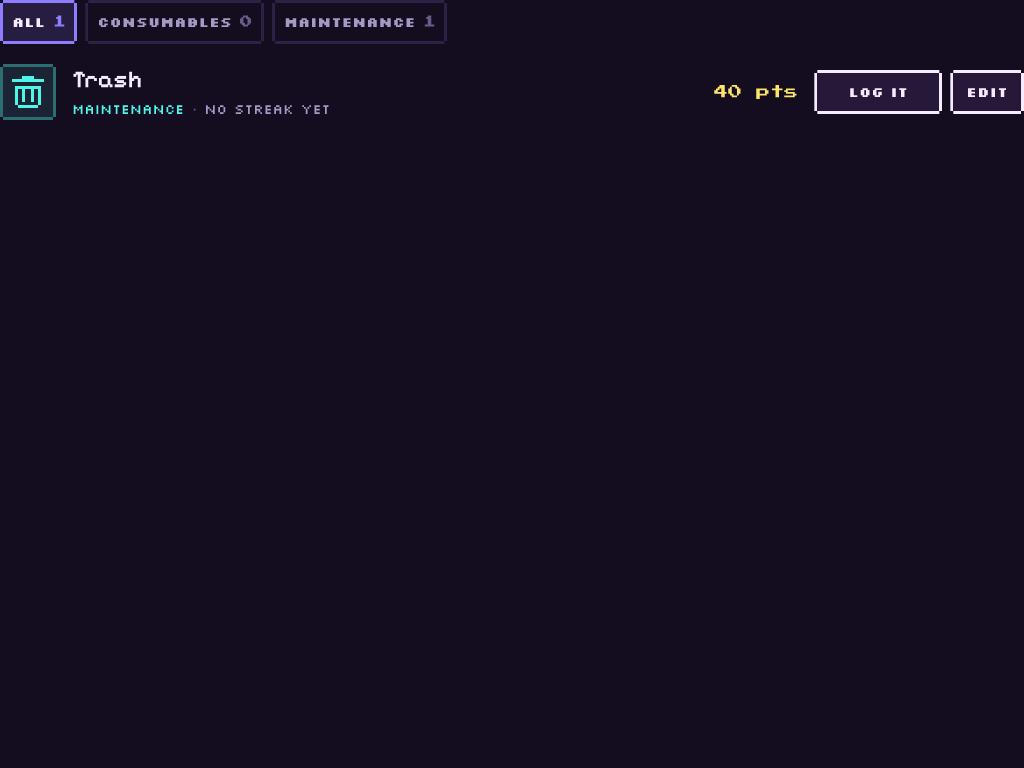
Scenario: BountyBoard › Change points takes any points without a suggestion, starting at the current ones
Step 1. Click the button "Edit" → [987, 92], box top-left (950, 70), bottom-right (1023, 114)
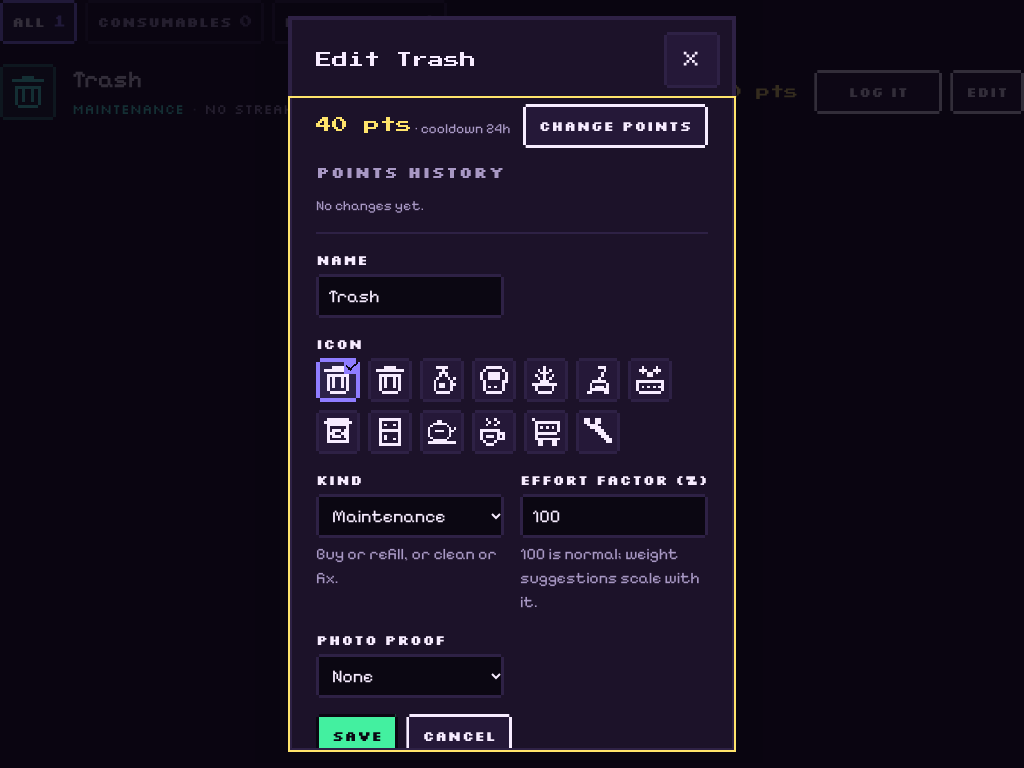
Now the dialog named "Edit Trash" is shown, box top-left (288, 16), bottom-right (736, 752)
Step 2. Click the button "Change points" → [615, 126], box top-left (523, 104), bottom-right (708, 148)
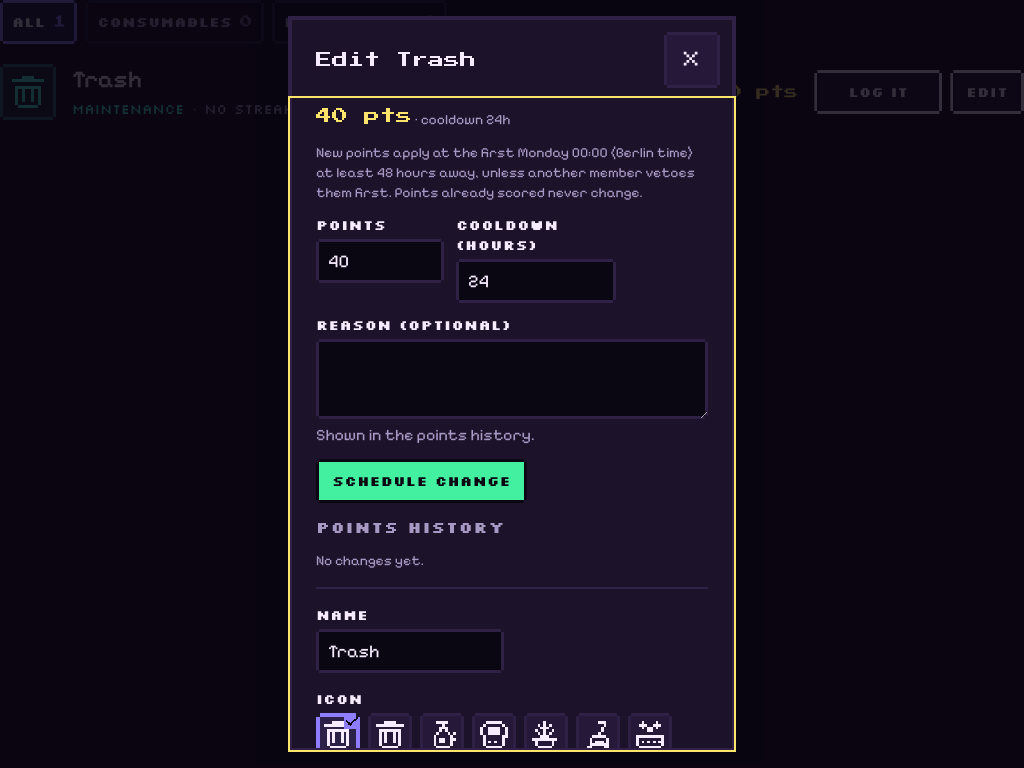
Now the form named "Change Trash" is shown, box top-left (316, 215), bottom-right (708, 503)
Now the number field named "basePoints" holds "40", box top-left (316, 239), bottom-right (444, 283)
Now the number field named "cooldownHours" holds "24", box top-left (456, 259), bottom-right (616, 303)
